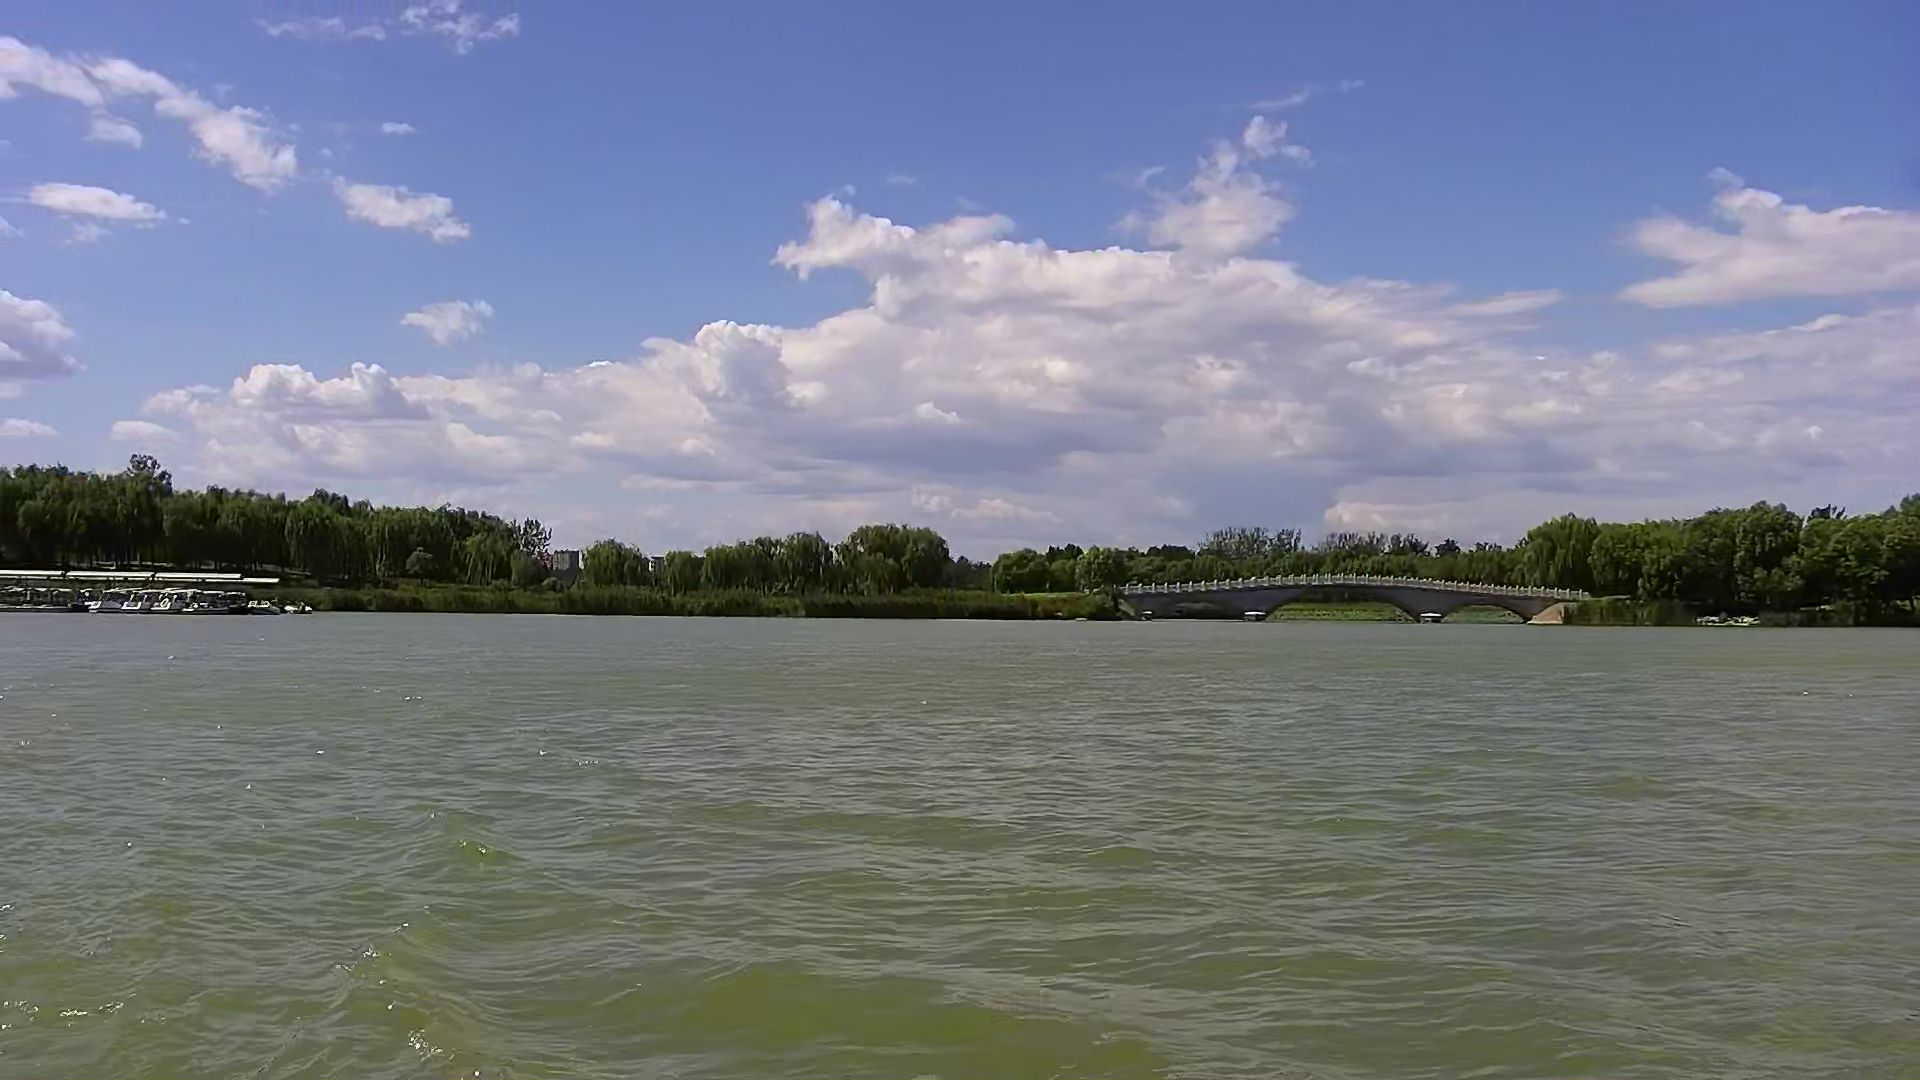bridge: (1114, 567, 1607, 634)
